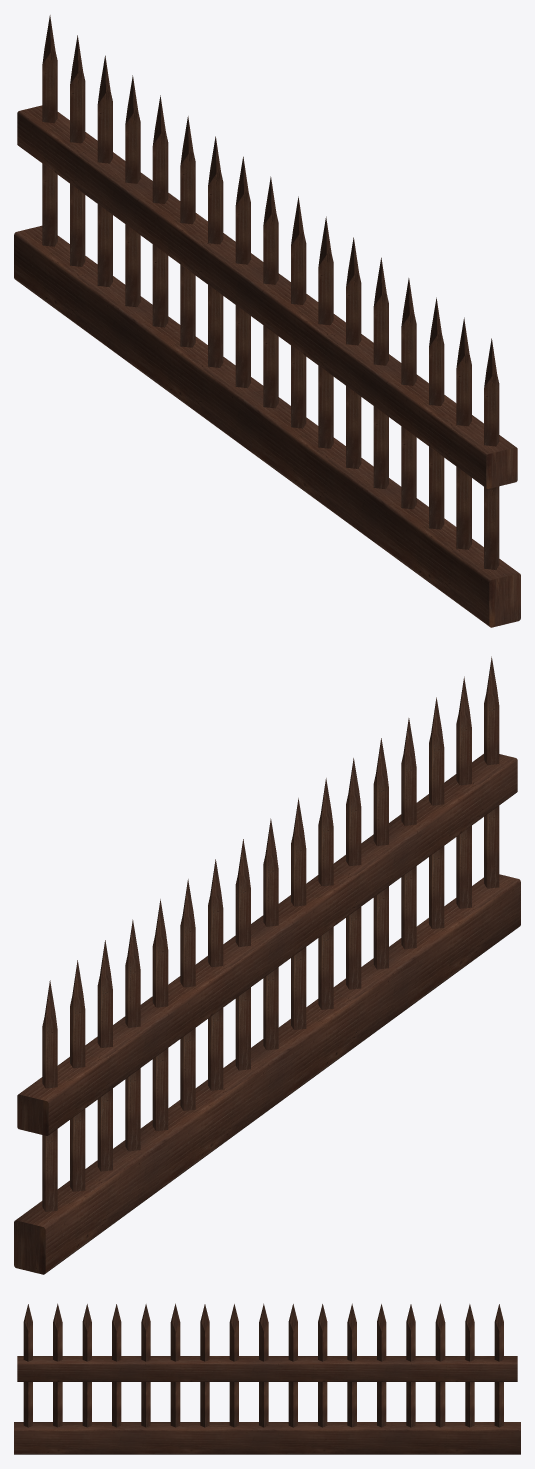
Rendered from SM_D_Gatejail_2.fbx.
The picture shows the model from 3 angles, top to bottom: view 1: azimuth 30°, elevation 25°; view 2: azimuth 150°, elevation 25°; view 3: azimuth 270°, elevation 25°; orthographic projection. The views are drawn at different scales.
Parts seen in each view (by area): view 1: SM_D_Gatejail_2; view 2: SM_D_Gatejail_2; view 3: SM_D_Gatejail_2.
Part boxes in pixels (left/top/right/bottom): SM_D_Gatejail_2: left=14, top=15, right=520, bottom=627; SM_D_Gatejail_2: left=14, top=656, right=520, bottom=1274; SM_D_Gatejail_2: left=14, top=1303, right=520, bottom=1454.
Size of the model in its own units: 9.63 by 252 by 80.88.
Materials: 1 (1 with a texture image).
